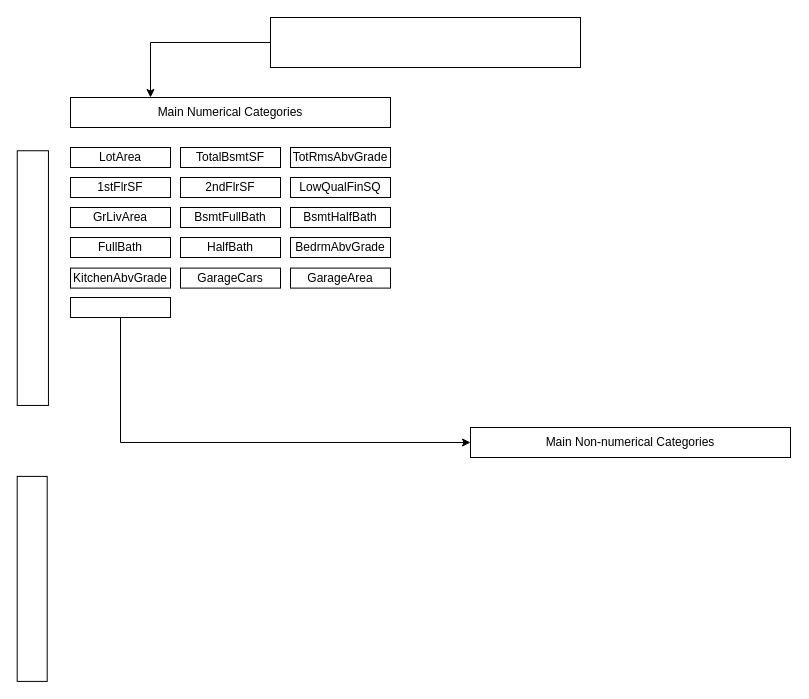
This 809x699 diagram has some shape labels left out. The shapes that lost their labels are listed below. From the top down, each one's box as (x1, y1, x2, y2) in pixels, then its label:
(270, 16, 580, 68): Updated Flow for House Price Prediction
(16, 150, 48, 406): Numerical Factors
(70, 296, 170, 318): AgeWhenSold
(16, 475, 47, 681): Non-numerical Factors
